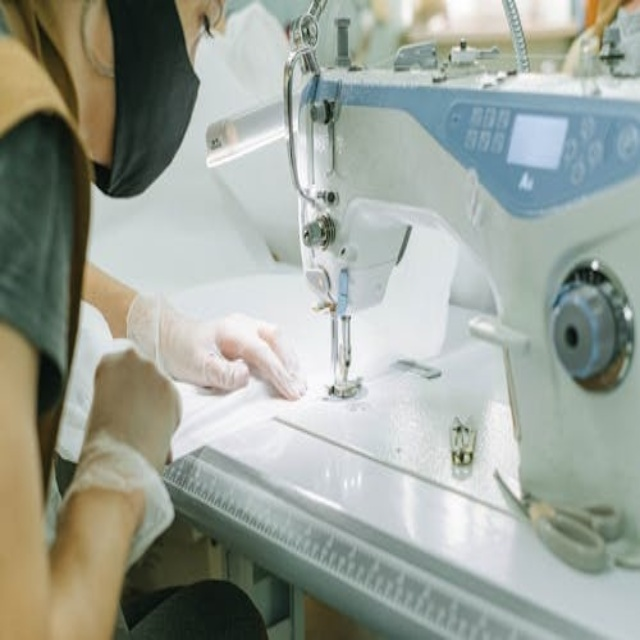Guantes: (131, 269, 321, 417), (83, 332, 187, 554)
Mascara: (92, 0, 204, 201)
Sin_gafas: (183, 4, 233, 63)
